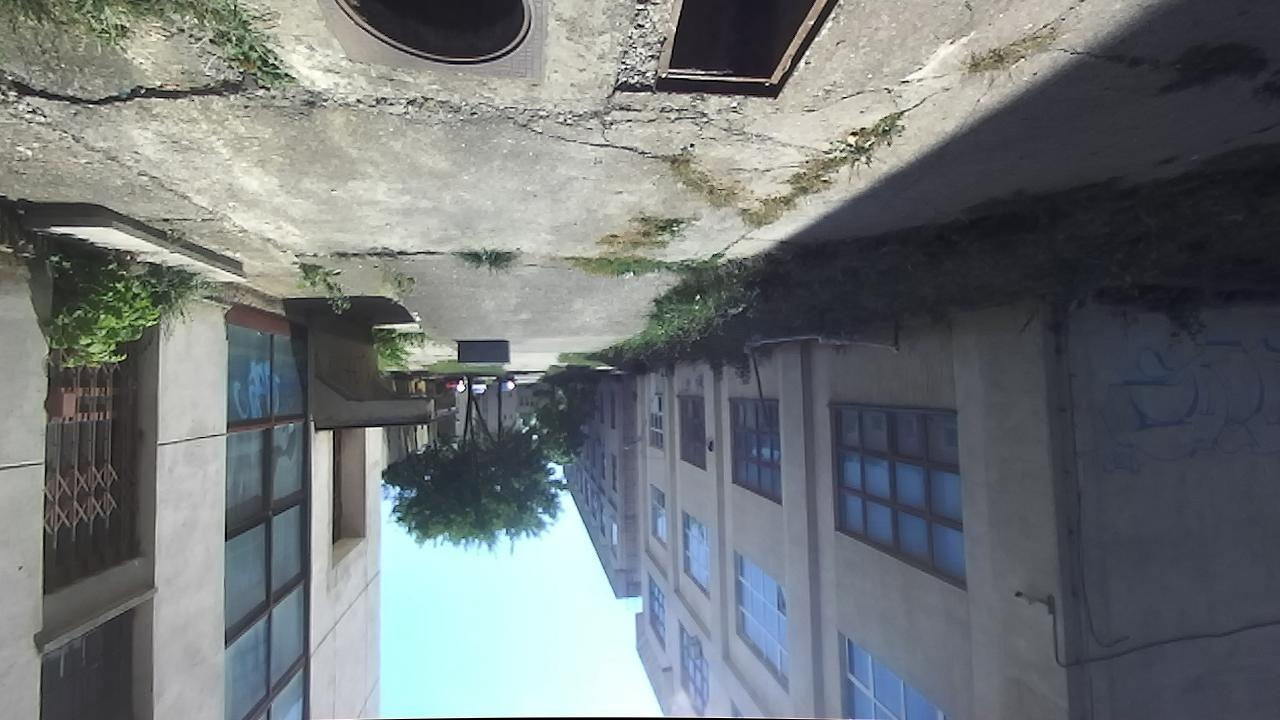drain: (649, 0, 842, 107), (329, 0, 542, 71)
